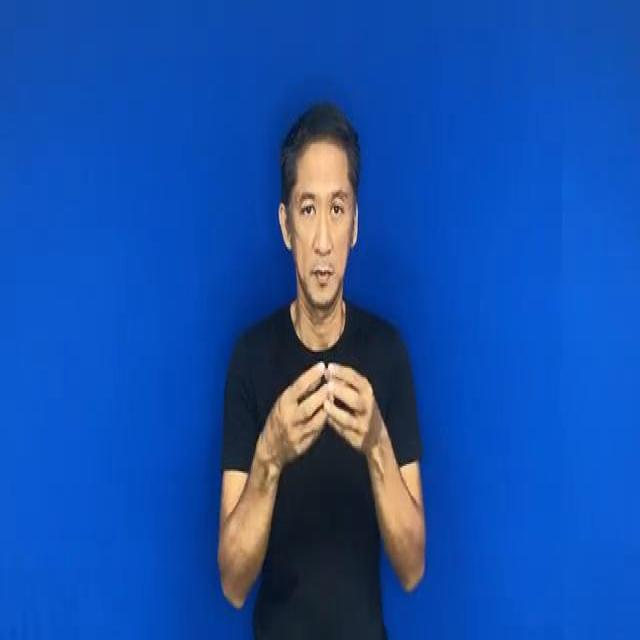egg: (252, 345, 382, 474)
